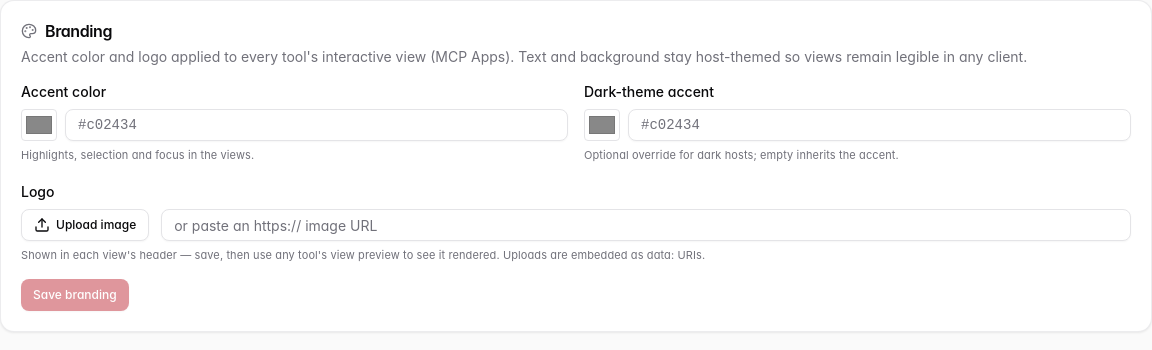
Test: BrandingCard › saves via elliot_set_branding with clear+fields (full replace)
Type "#123abc" into the field labelled "Accent color" at (316, 125), box left=65, top=109, right=568, bottom=141
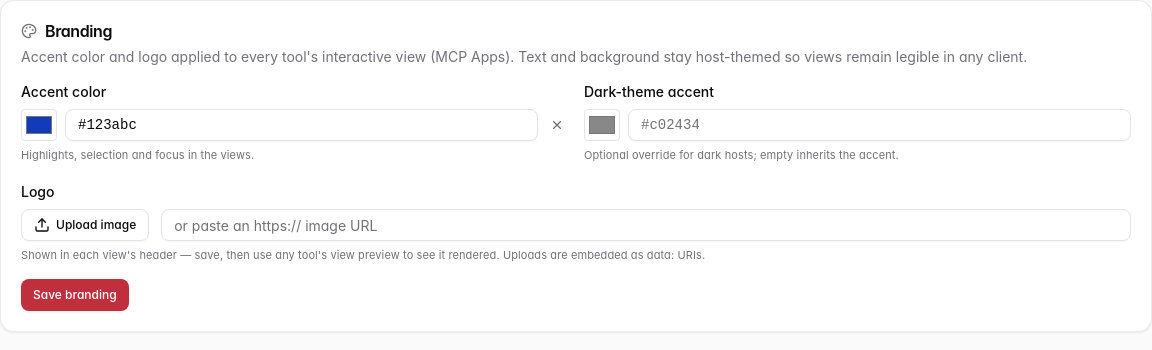
Click the button "Save branding" at (75, 295), box left=21, top=279, right=129, bottom=311
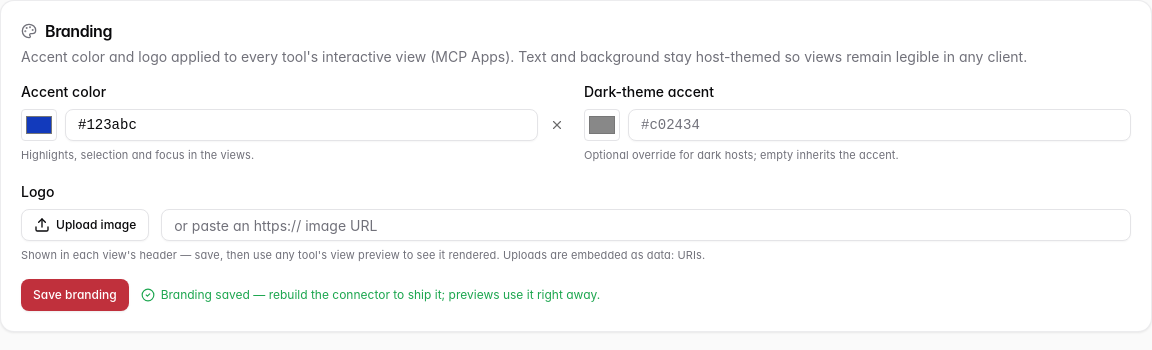
Expected: the text "Branding saved — rebuild the connector to ship it; previews use it right away." is shown, left=141, top=287, right=600, bottom=303
